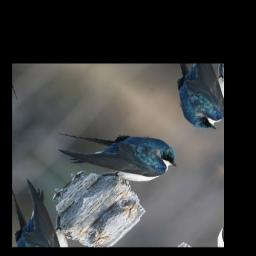Swallow: (46, 90, 185, 210)
